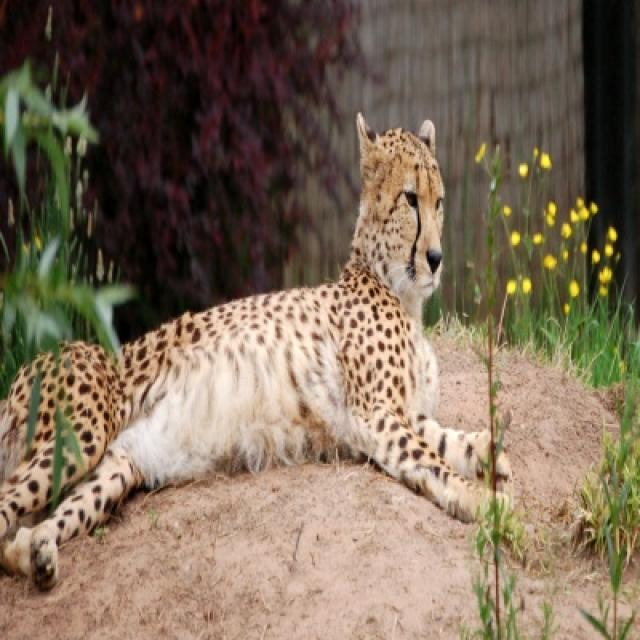Cheetah: (0, 102, 514, 581)
